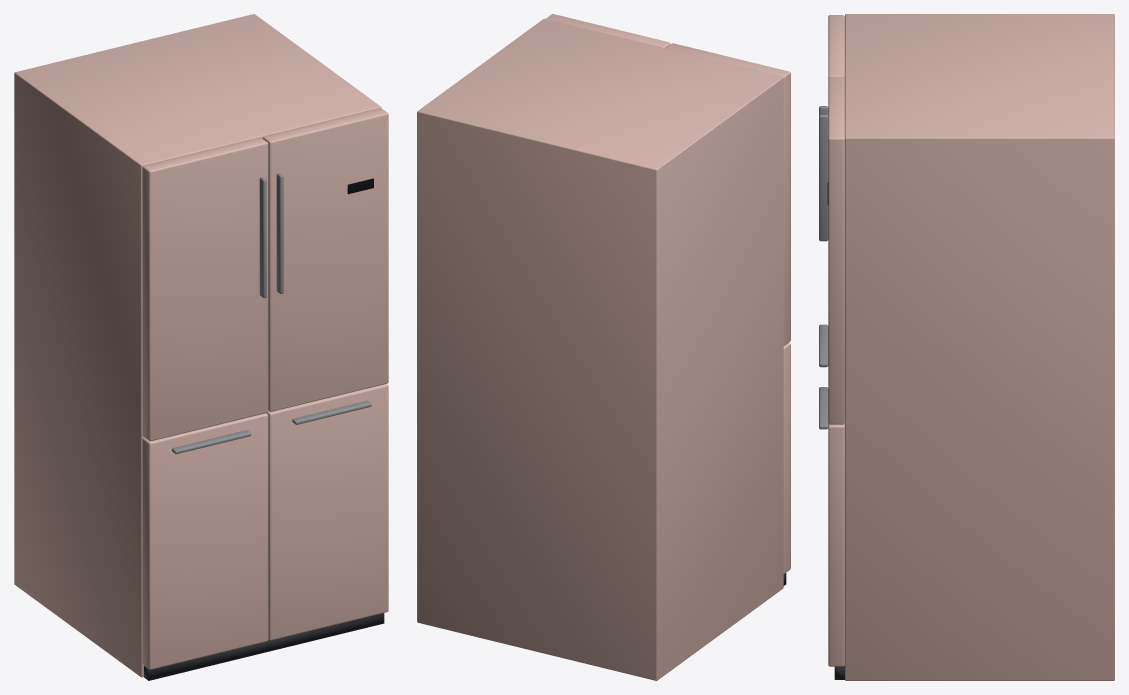
The model's file is M875SKV282S.glb.
The picture shows the model from 3 angles, left to right: view 1: azimuth 30°, elevation 25°; view 2: azimuth 150°, elevation 25°; view 3: azimuth 270°, elevation 25°; orthographic projection. The views are drawn at different scales.
Visible parts, largest first — view 1: M875SKV282S; view 2: M875SKV282S; view 3: M875SKV282S.
Boxes of the visible parts, <box> form: M875SKV282S: <box>14,14,388,680</box>; M875SKV282S: <box>417,14,790,680</box>; M875SKV282S: <box>819,14,1114,680</box>.
Size of the model in its own units: 0.914 by 1.86 by 0.918.
